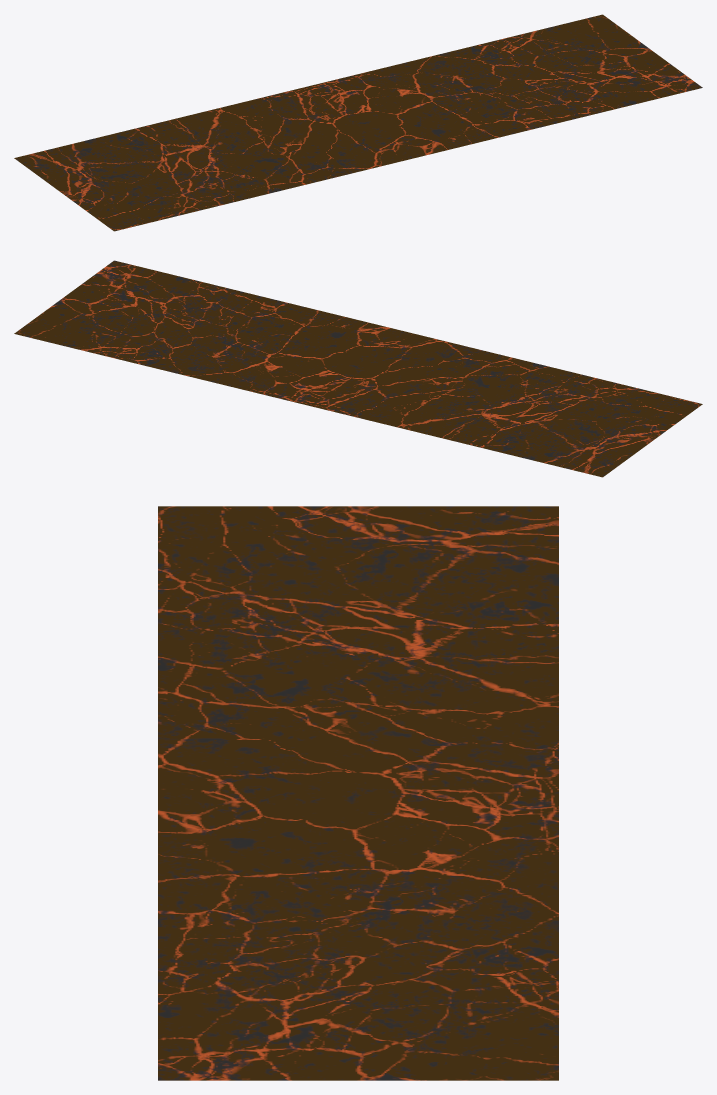
Rendered from tile plataforma.fbx.
3 views of the same model, one above another, from view 1: azimuth 30°, elevation 25°; view 2: azimuth 150°, elevation 25°; view 3: azimuth 270°, elevation 25° (orthographic). The views are drawn at different scales.
Parts seen in each view (by area): view 1: piso1; view 2: piso1; view 3: piso1.
Boxes of the visible parts, bbox=[...] form: piso1: bbox=[14, 14, 702, 231]; piso1: bbox=[14, 260, 702, 477]; piso1: bbox=[158, 506, 558, 1080].
Bounding box in the file's own units: 46.87 × 5.49e-22 × 13.82.
